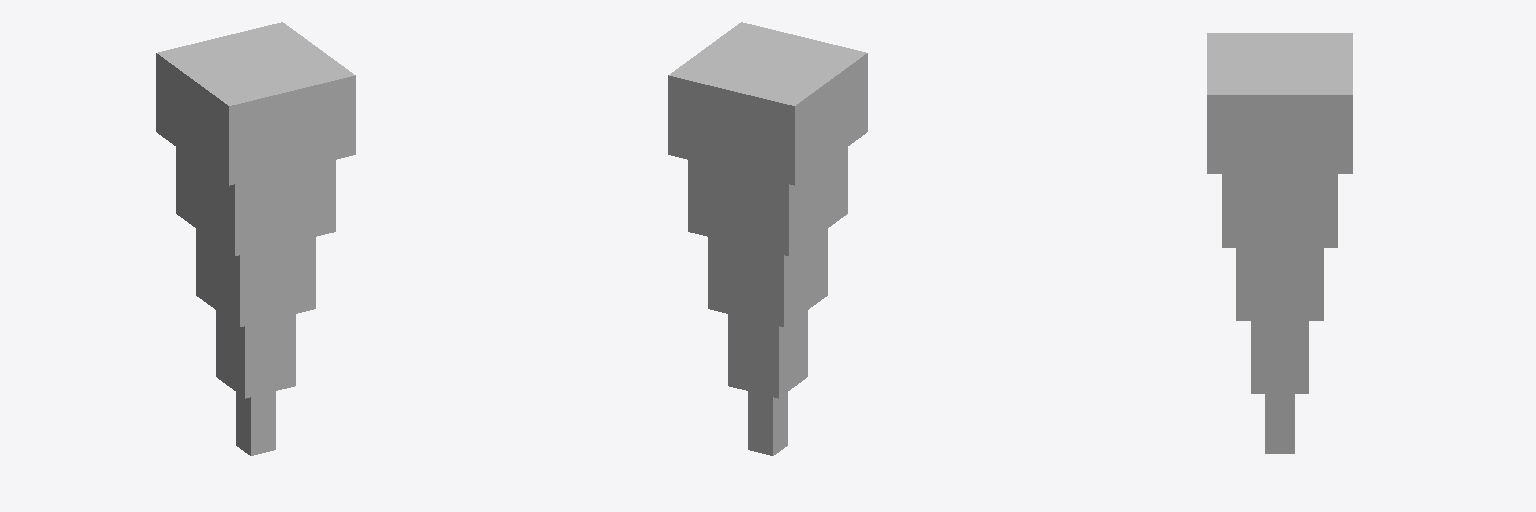
File: RangeTower1_Bottom.obj
The picture shows the model from 3 angles: view 1: azimuth 30°, elevation 25°; view 2: azimuth 150°, elevation 25°; view 3: azimuth 270°, elevation 25°; orthographic projection.
Visible parts, largest first — view 1: RangeTower1_Bottom; view 2: RangeTower1_Bottom; view 3: RangeTower1_Bottom.
Part boxes in pixels (x1,y1,x2,y2): RangeTower1_Bottom: (156, 22, 355, 455); RangeTower1_Bottom: (668, 22, 867, 455); RangeTower1_Bottom: (1207, 33, 1352, 453).
Size of the model in its own units: 10 by 29 by 10.